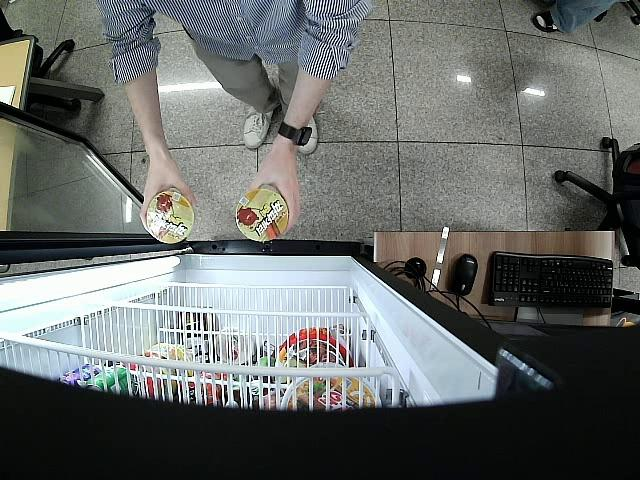00_hand: (243, 161, 300, 236), (139, 161, 195, 233)
04_chapagetti_S: (144, 186, 195, 247), (235, 186, 290, 239)
